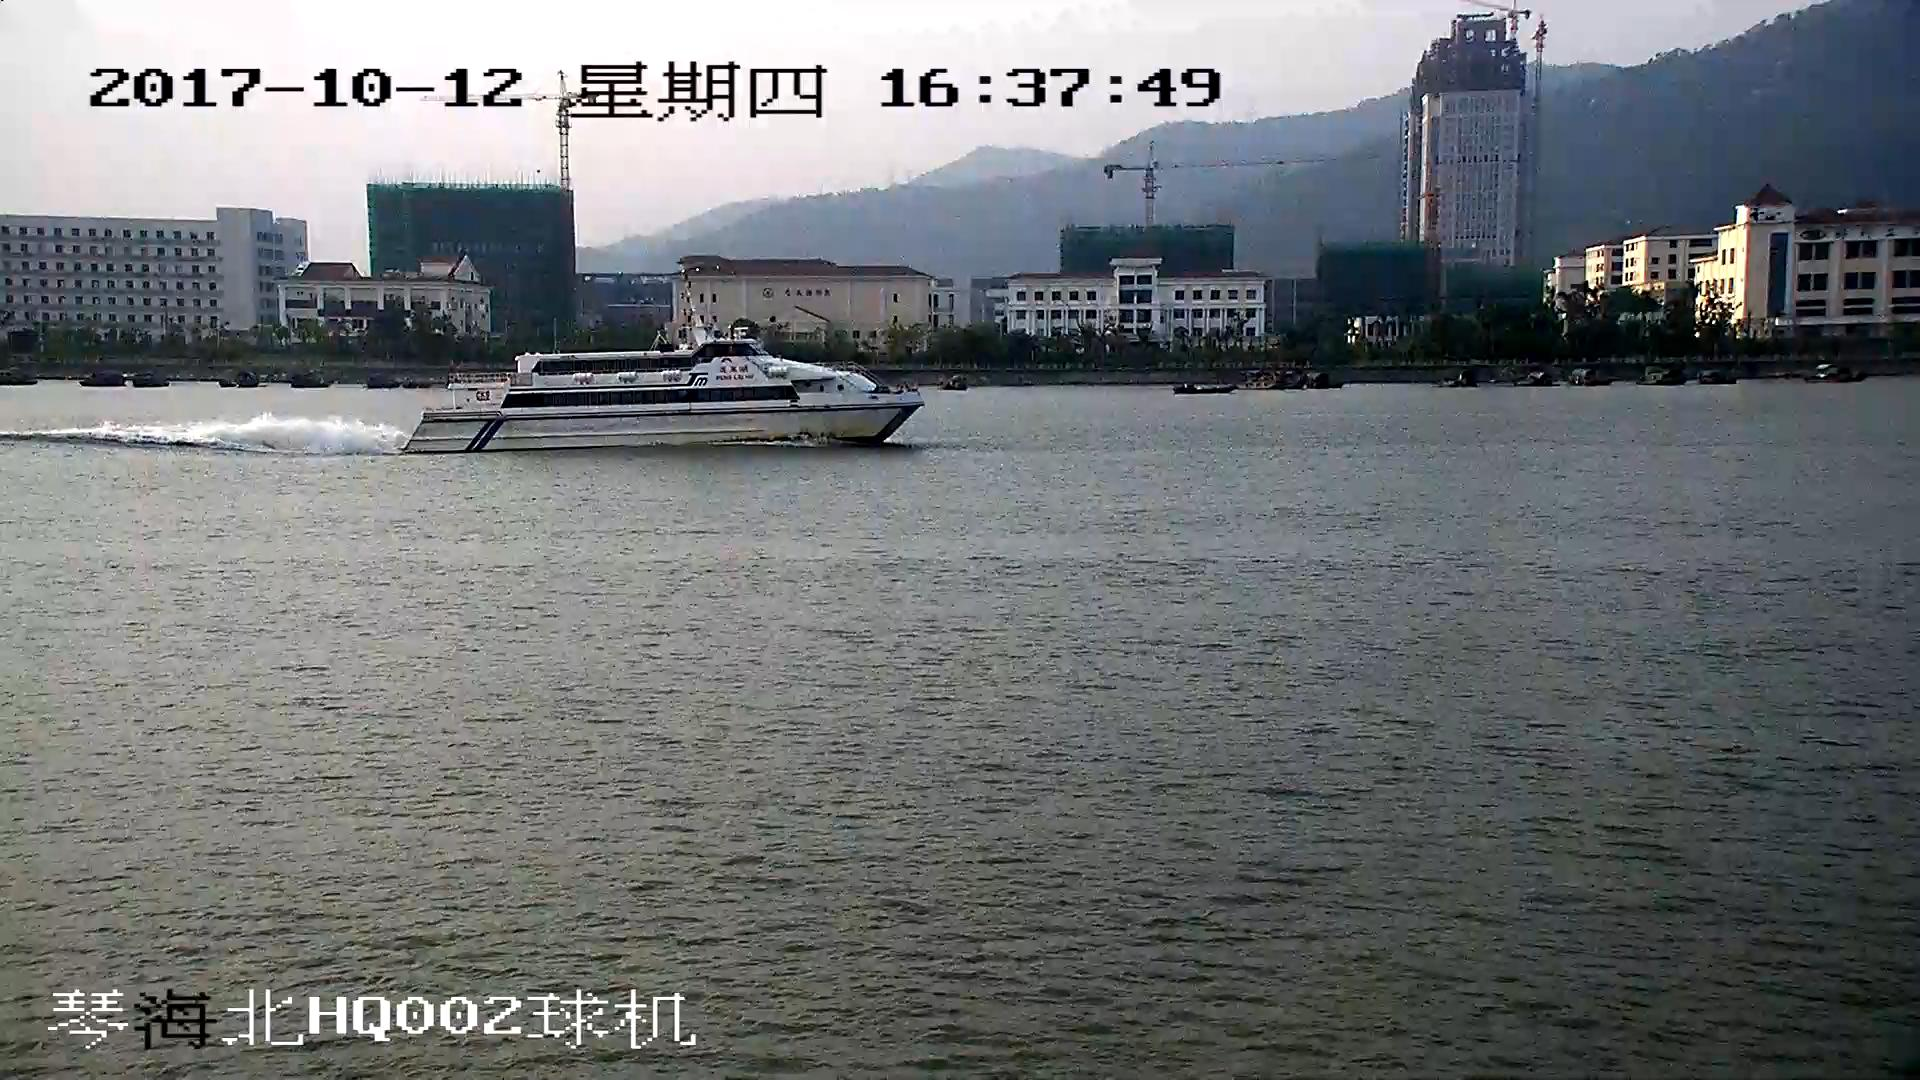passenger ship: (405, 276, 924, 458)
